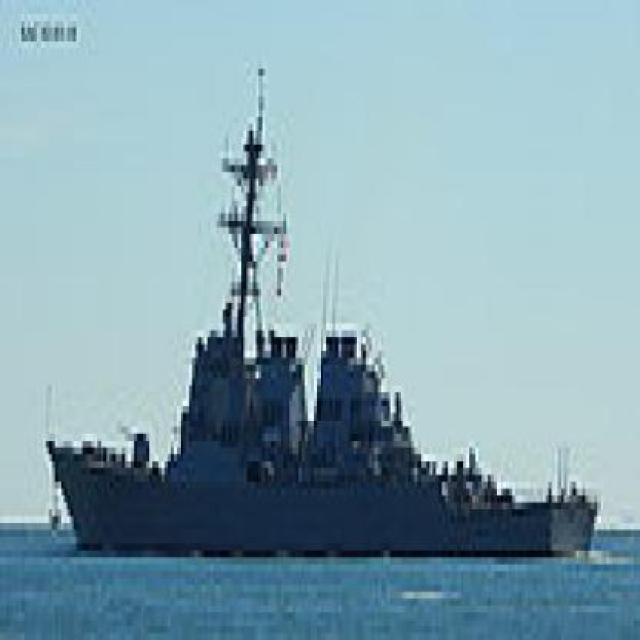warship2: (34, 118, 611, 586)
